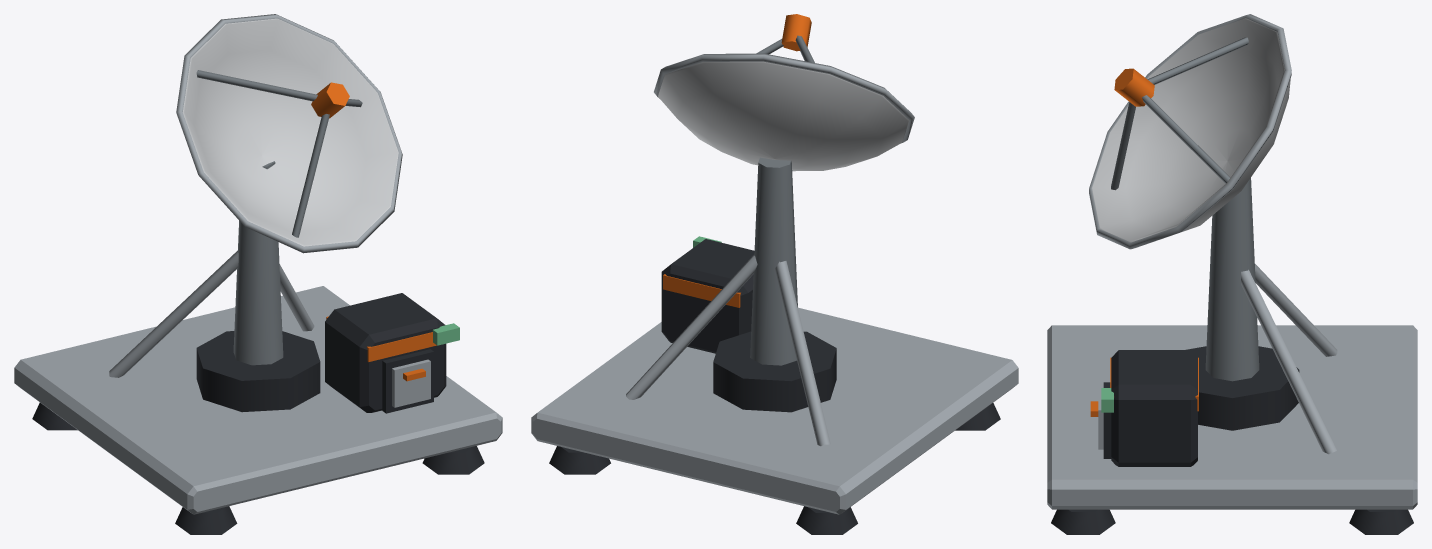
The model's file is antenna.glb.
3 views of the same model, side by side, from view 1: azimuth 30°, elevation 25°; view 2: azimuth 150°, elevation 25°; view 3: azimuth 270°, elevation 25° (orthographic). The views are drawn at different scales.
Parts seen in each view (by area): view 1: static_body_mesh.007, dish_tilt_mesh, service_panel_mesh.007; view 2: static_body_mesh.007, dish_tilt_mesh; view 3: static_body_mesh.007, dish_tilt_mesh, service_panel_mesh.007.
Boxes of the visible parts, box(x1,y1,x2,y2) form: static_body_mesh.007: box(14, 161, 502, 534); dish_tilt_mesh: box(176, 14, 402, 253); service_panel_mesh.007: box(382, 349, 433, 413); static_body_mesh.007: box(531, 157, 1018, 534); dish_tilt_mesh: box(654, 14, 914, 171); static_body_mesh.007: box(1047, 178, 1417, 534); dish_tilt_mesh: box(1089, 14, 1291, 249); service_panel_mesh.007: box(1090, 382, 1111, 458).
Size of the model in its own units: 2.1 by 2.59 by 2.05.
